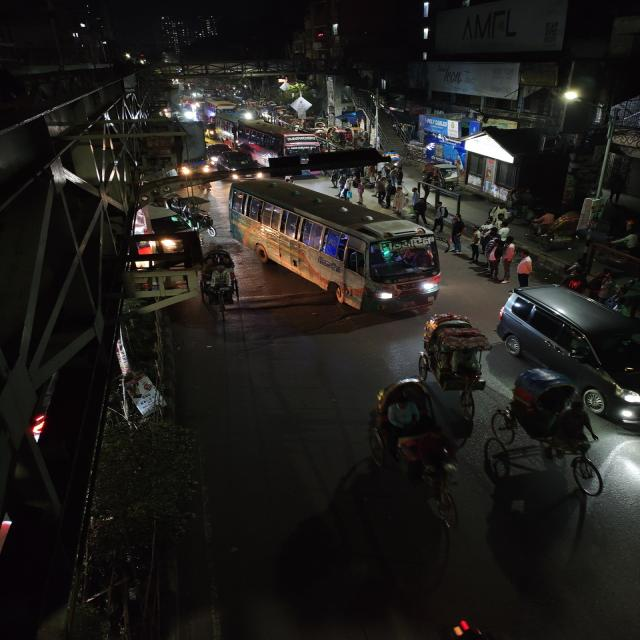bus: (228, 176, 444, 316), (255, 128, 320, 160), (222, 112, 260, 145)
car: (504, 286, 640, 407), (215, 146, 261, 174), (207, 143, 235, 171)
pedestrian: (447, 213, 473, 260), (483, 228, 502, 280), (508, 250, 534, 284), (501, 232, 516, 286), (466, 222, 483, 266), (429, 200, 451, 233), (390, 179, 408, 215), (409, 194, 431, 223), (350, 179, 366, 208), (372, 175, 386, 208), (407, 185, 422, 214)
rickshaw: (354, 373, 471, 558), (500, 362, 603, 500), (415, 310, 488, 400), (198, 250, 240, 324), (529, 207, 581, 254), (174, 196, 220, 240)
